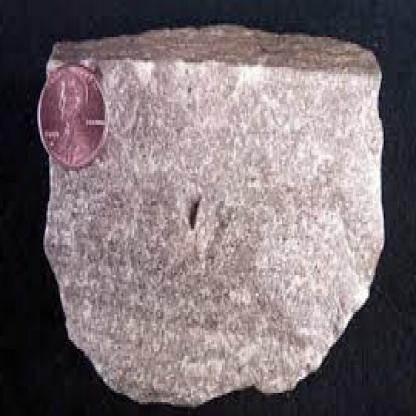Metamorphic_Quartize: (32, 25, 387, 407)
